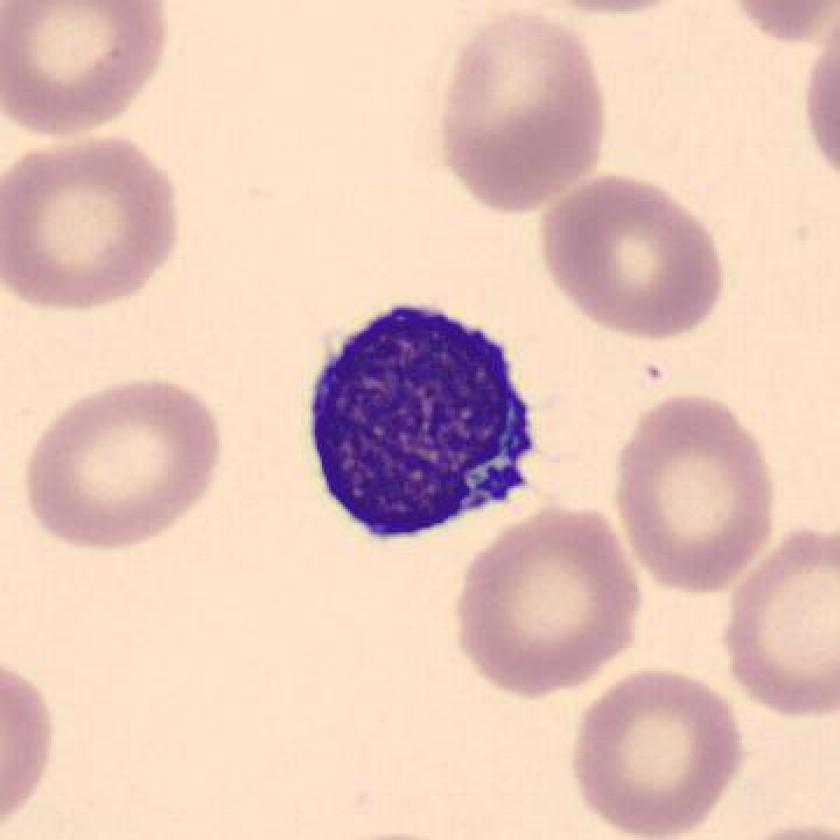lymphocyte: (293, 290, 552, 561)
